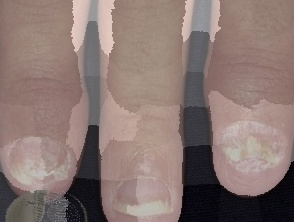Nail_psoriasis: (203, 97, 294, 197), (0, 121, 85, 202), (105, 135, 181, 222)
